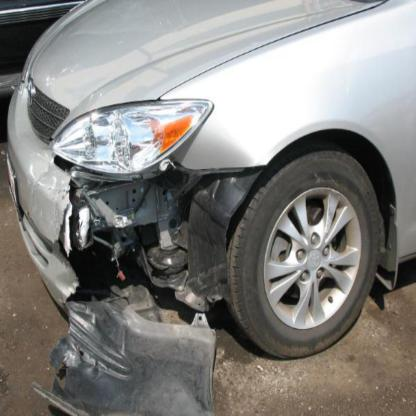front_bumper: (6, 82, 78, 314)
headlamp: (50, 98, 214, 176)
hood: (32, 0, 386, 138)
